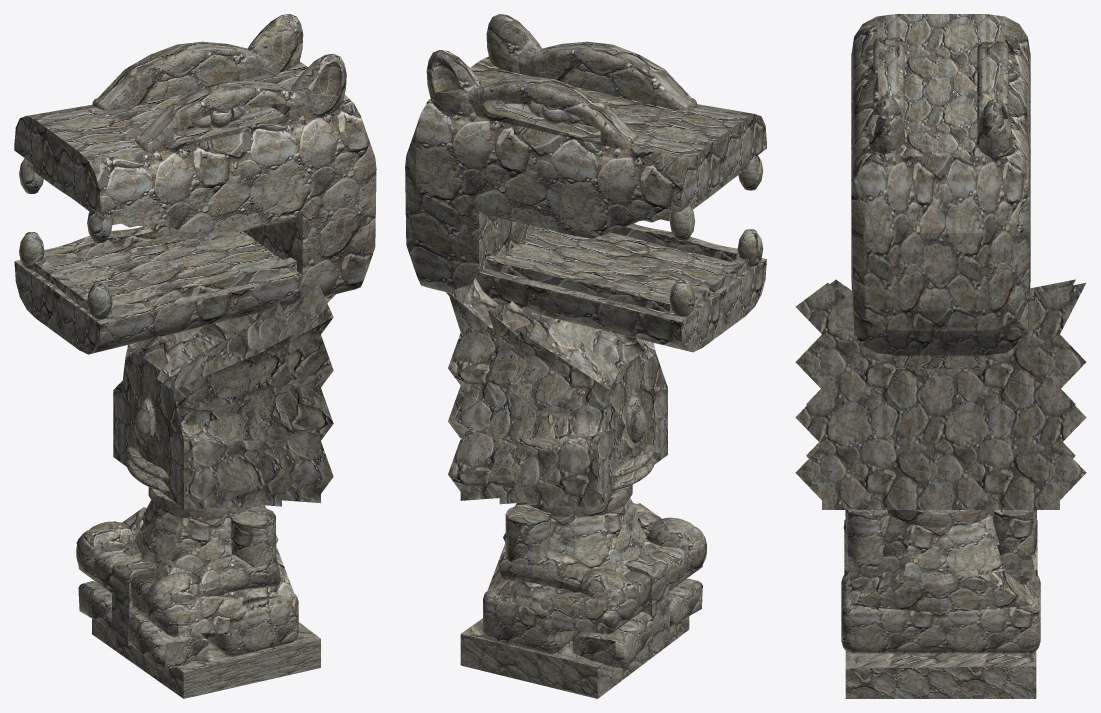
Rendered from Maya_sculpture 1.FBX.
3 renders of one model, left to right at view 1: azimuth 30°, elevation 25°; view 2: azimuth 150°, elevation 25°; view 3: azimuth 270°, elevation 25°, orthographic. The views are drawn at different scales.
Parts seen in each view (by area): view 1: Box019, Box020, Cylinder003, Box021, GeoSphere002; view 2: Box019, Box020, Cylinder003, Box021, GeoSphere002; view 3: Box019, Box020, Cylinder003, Box021.
Part boxes in pixels (left/top/right/bottom): Box019: left=14, top=14, right=376, bottom=354; Box020: left=113, top=283, right=333, bottom=508; Cylinder003: left=76, top=487, right=298, bottom=669; Box021: left=92, top=618, right=320, bottom=698; GeoSphere002: left=126, top=397, right=169, bottom=491; Box019: left=405, top=14, right=766, bottom=352; Box020: left=448, top=278, right=667, bottom=506; Cylinder003: left=483, top=485, right=706, bottom=667; Box021: left=460, top=616, right=689, bottom=698; GeoSphere002: left=612, top=395, right=654, bottom=489; Box019: left=851, top=14, right=1030, bottom=368; Box020: left=795, top=279, right=1086, bottom=509; Cylinder003: left=841, top=510, right=1040, bottom=653; Box021: left=845, top=651, right=1036, bottom=698.
Bounding box in the file's own units: 7.79 × 15.17 × 6.5.
Materials: 1 (1 with a texture image).
